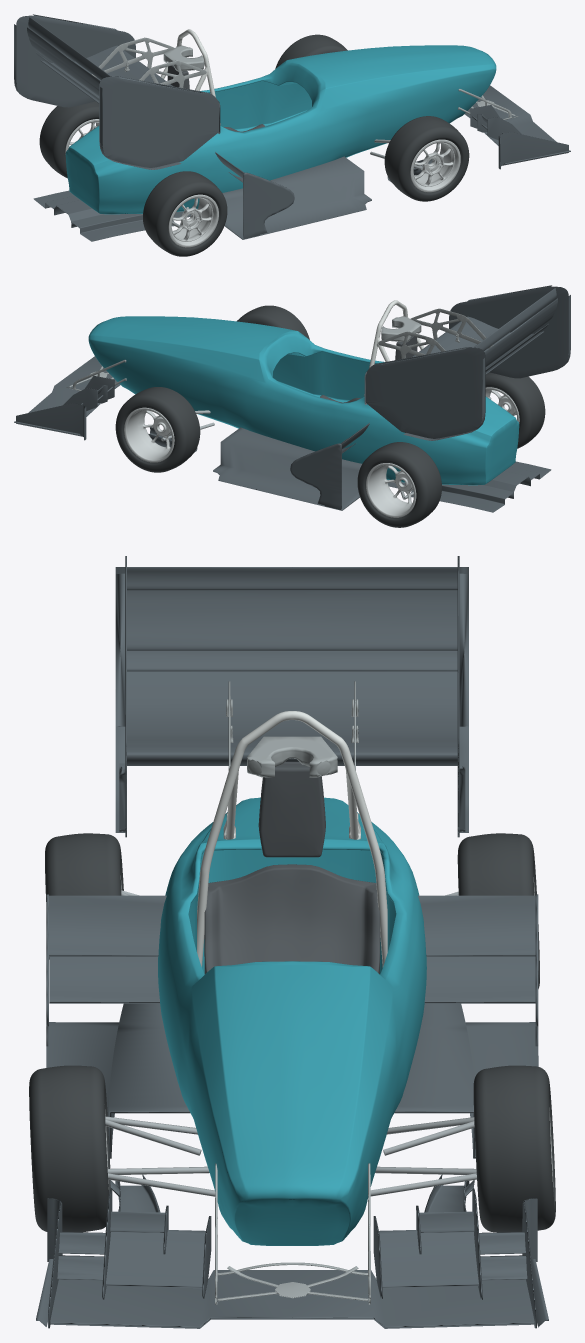
File: demo.glb
3 views of the same model, one above another, from view 1: azimuth 30°, elevation 25°; view 2: azimuth 150°, elevation 25°; view 3: azimuth 270°, elevation 25° (orthographic). The views are drawn at different scales.
Visible parts, largest first — view 1: bodywork, rear-wing, floor, front-wing, wheel-fr-tire, wheel-rr-tire, structure, wheel-rl-tire, wheel-fr-rim, wheel-rr-rim, wheel-fl-tire, rollbar (+1 smaller); view 2: bodywork, rear-wing, floor, front-wing, wheel-fl-tire, wheel-rl-tire, structure, wheel-rr-tire, wheel-rl-rim, wheel-fl-rim, wheel-fr-tire, rollbar (+2 smaller); view 3: bodywork, rear-wing, floor, front-wing, seat, wheel-fl-tire, wheel-fr-tire, rollbar, structure, wheel-rl-tire, wheel-rr-tire.
Boxes of the visible parts, x1,y1,x2,y2 form: bodywork: (65,45,496,214); rear-wing: (14,14,220,158); floor: (23,84,423,241); front-wing: (418,85,570,169); wheel-fr-tire: (384,116,469,201); wheel-rr-tire: (143,171,227,256); structure: (91,37,518,119); wheel-rl-tire: (39,101,99,178); wheel-fr-rim: (410,139,460,192); wheel-rr-rim: (168,194,218,247); wheel-fl-tire: (275,34,347,68); rollbar: (160,29,220,125); bodywork: (88,316,519,485); rear-wing: (364,285,570,429); floor: (153,355,561,512); front-wing: (14,356,162,440); wheel-fl-tire: (115,387,200,472); wheel-rl-tire: (357,442,441,527); structure: (66,308,493,390); wheel-rr-tire: (485,372,545,448); wheel-rl-rim: (366,463,416,517); wheel-fl-rim: (124,407,174,462); wheel-fr-tire: (237,305,309,339); rollbar: (364,300,424,396); bodywork: (158,797,426,1245); rear-wing: (115,556,468,829); floor: (46,716,538,1212); front-wing: (36,1188,548,1328); seat: (204,761,380,974); wheel-fl-tire: (473,1065,555,1232); wheel-fr-tire: (29,1065,110,1232); rollbar: (197,711,387,967); structure: (215,681,370,1304); wheel-rl-tire: (457,833,539,988); wheel-rr-tire: (45,833,123,959).
Size of the model in its own units: 2.91 by 1.13 by 1.47.
